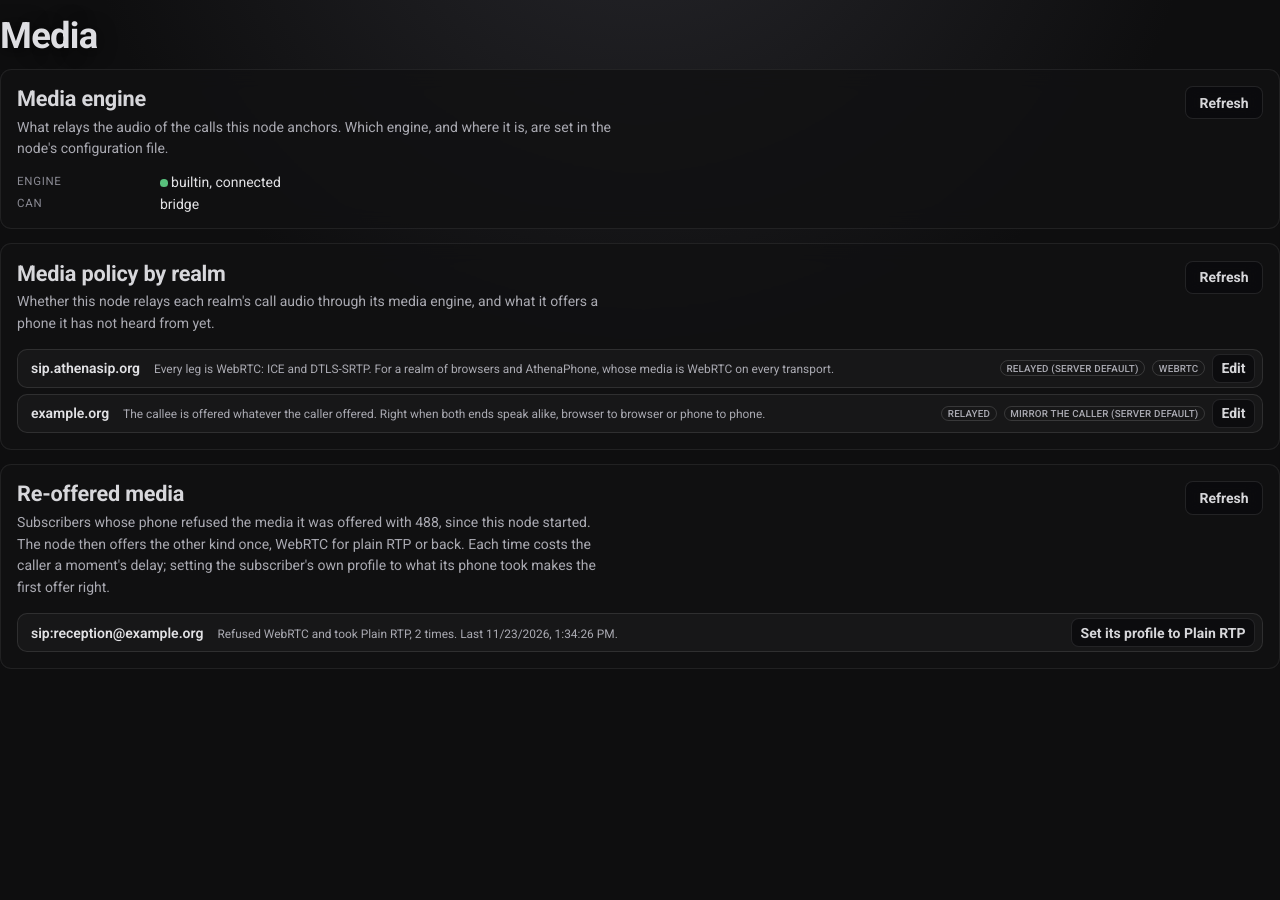
Scenario: MediaScreen › changes only the media policy of a realm
The width and height of the screenshot is (1280, 900).
Click the button with aria-label "Edit media for example.org".
click(1233, 414)  # box [1212, 399, 1255, 428]
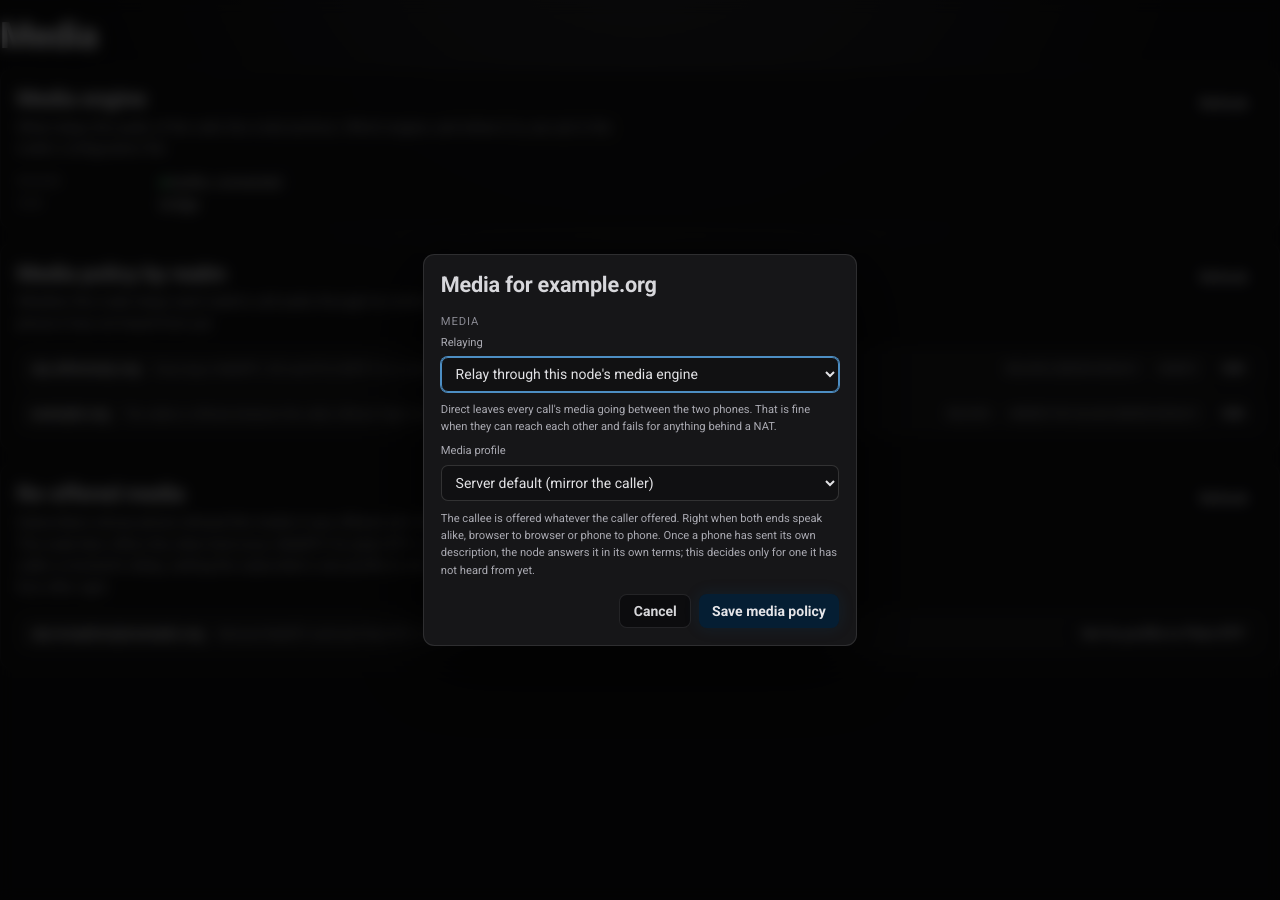
Select "Plain RTP" in the dropdown labelled "Media profile" at (640, 483), box [441, 465, 839, 501]
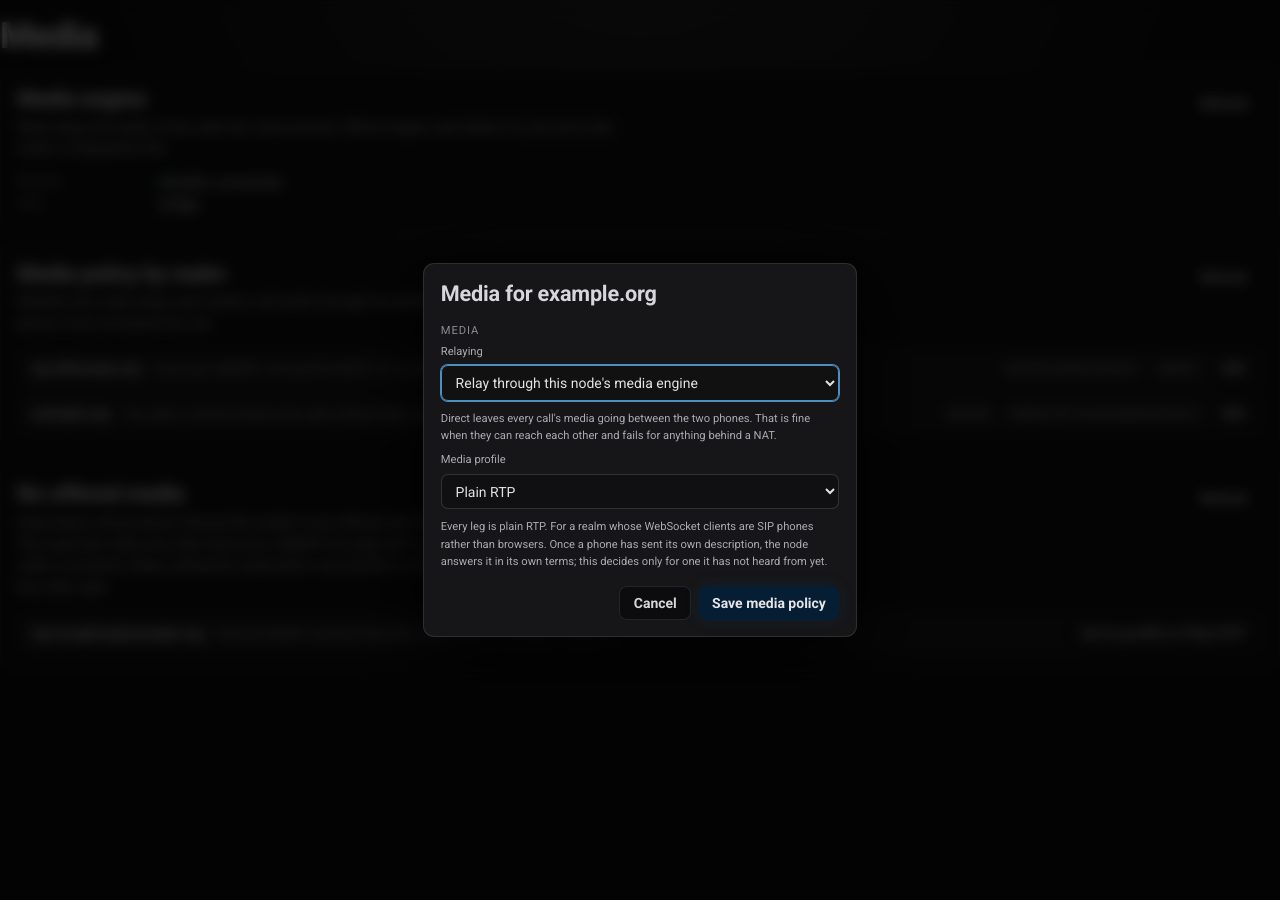
Click the button "Save media policy".
click(769, 602)  # box [699, 586, 839, 619]
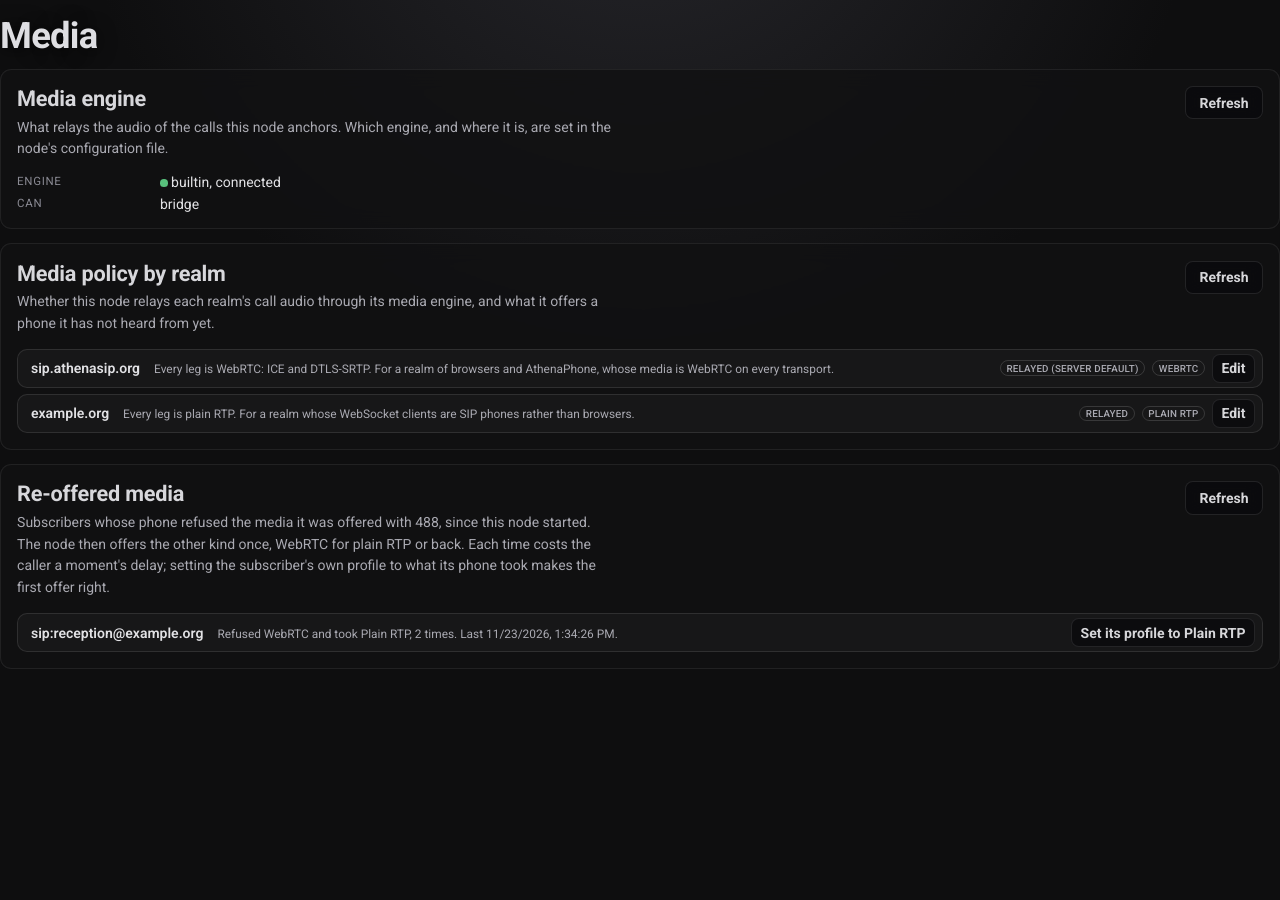
Result: the dialog is gone
